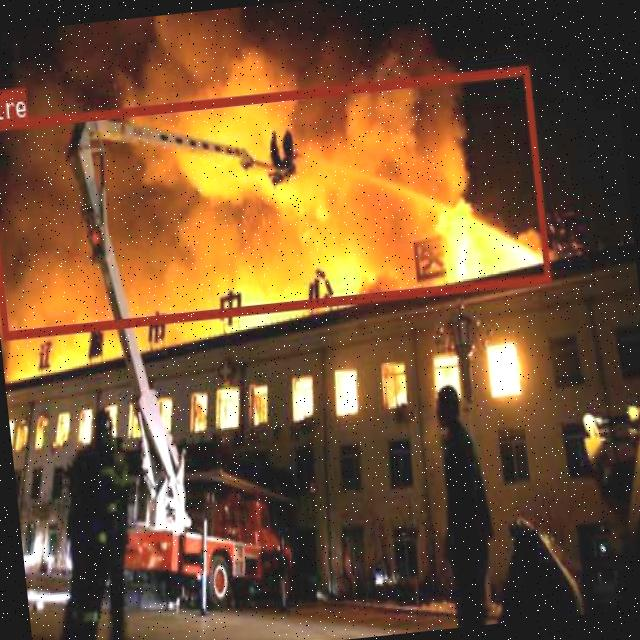fire: (0, 64, 550, 337)
